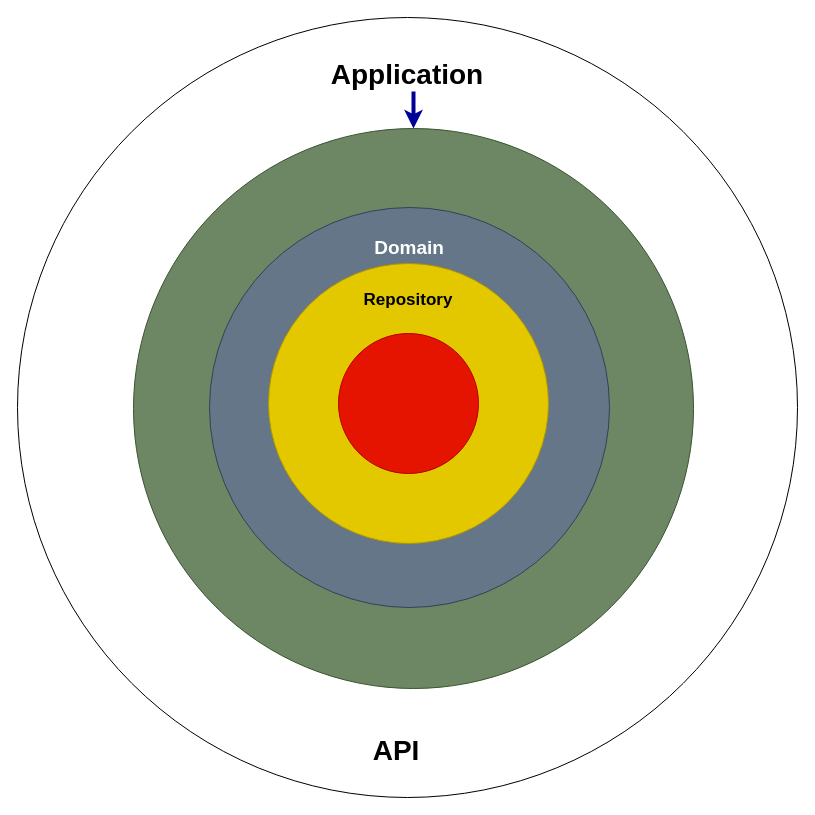
The diagram is 815 pixels wide and 815 high, and some of its shapes have lost their labels. The shapes that lost their labels are listed below. From the top down, each one's box as (x1, y1, x2, y2) in pixels, then its label:
(338, 332, 478, 474): Core Entity
(132, 128, 694, 688): Service
